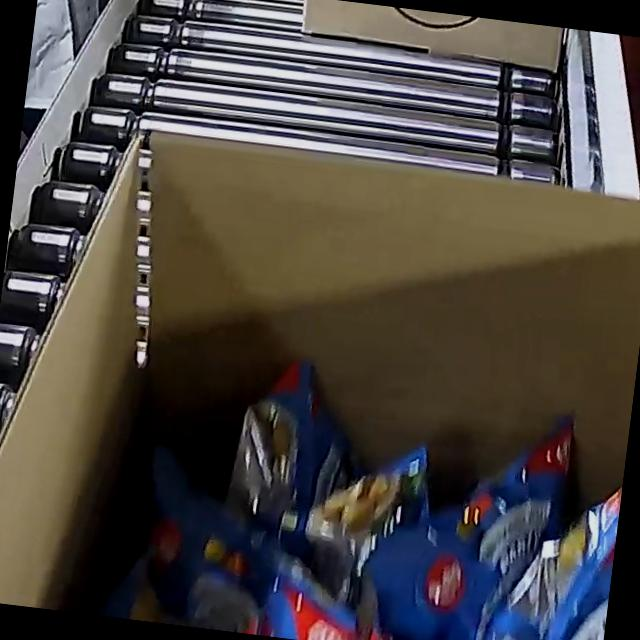paprika: (22, 327, 633, 640)
